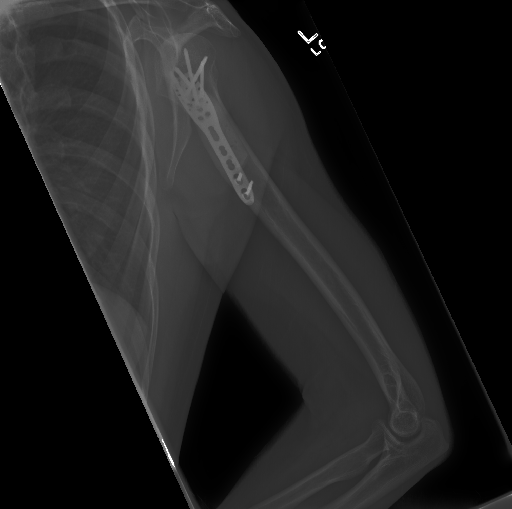implant: (165, 44, 217, 125), (209, 141, 255, 205)
